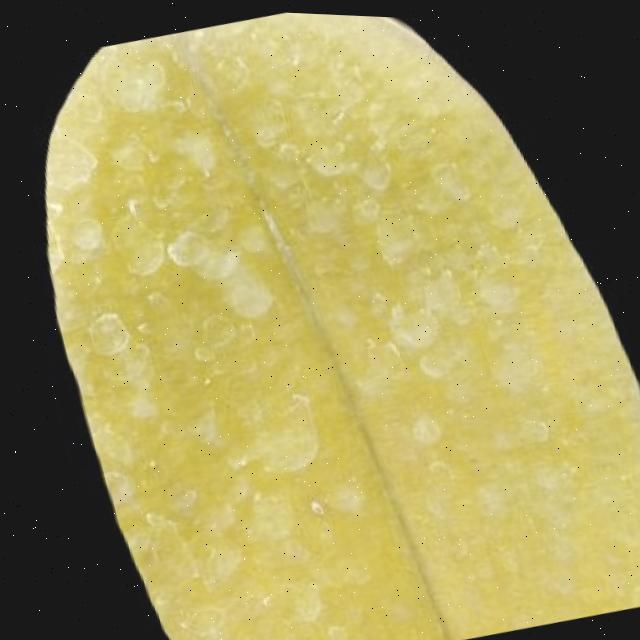mite: (380, 292, 446, 356), (78, 307, 136, 363), (427, 154, 476, 207), (63, 213, 109, 258), (352, 152, 398, 195), (402, 406, 446, 448)
spots: (2, 10, 640, 640)
